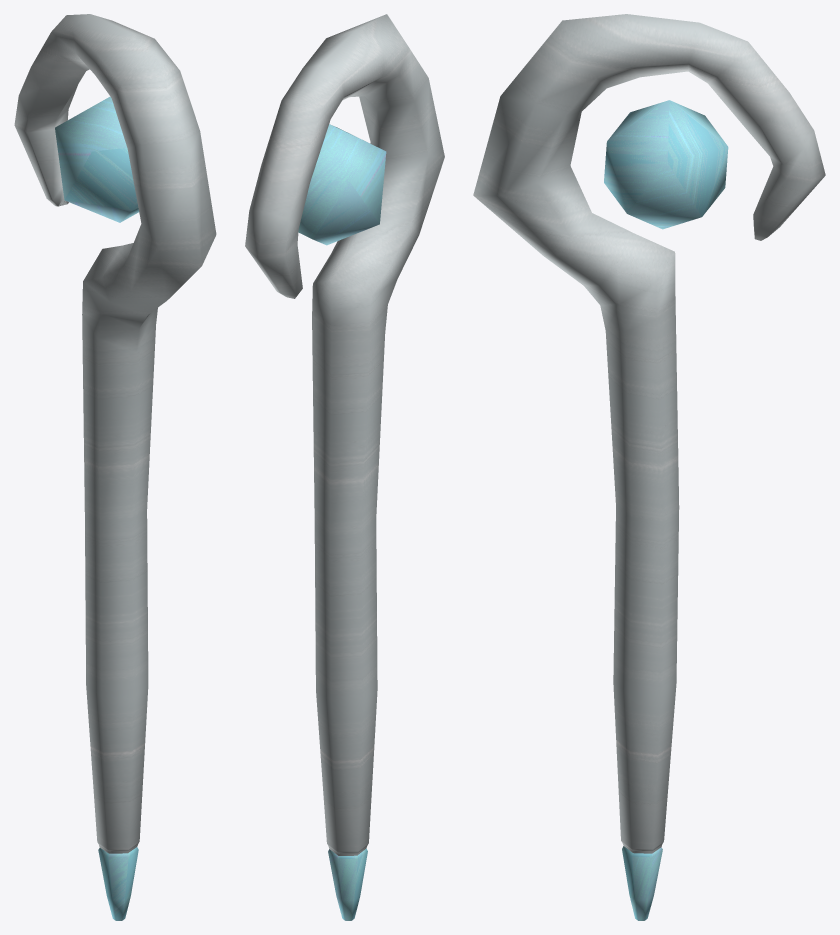
The model's file is StaffSS.fbx.
3 renders of one model, left to right at view 1: azimuth 30°, elevation 25°; view 2: azimuth 150°, elevation 25°; view 3: azimuth 270°, elevation 25°, orthographic. The views are drawn at different scales.
Parts seen in each view (by area): view 1: Staff SS; view 2: Staff SS; view 3: Staff SS.
Boxes of the visible parts, x1=… form: Staff SS: x1=14, y1=14, x2=216, y2=920; Staff SS: x1=245, y1=14, x2=444, y2=920; Staff SS: x1=473, y1=14, x2=825, y2=920.
Size of the model in its own units: 0.2056 by 1.61 by 0.5671.
